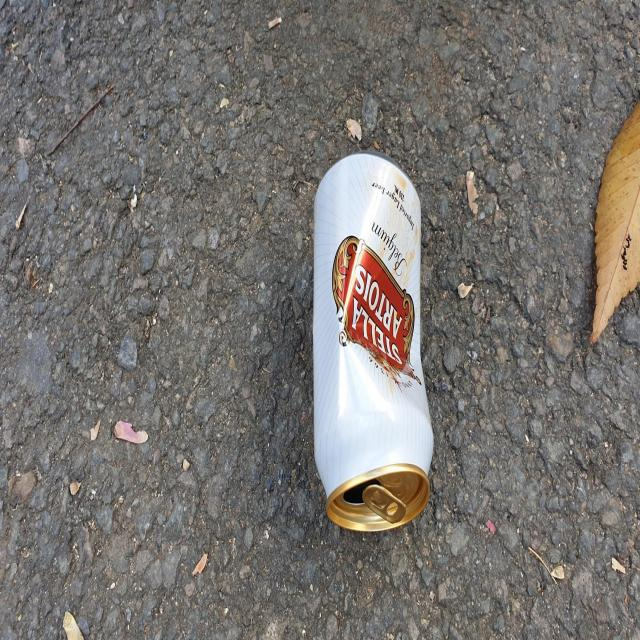can: (313, 151, 434, 532)
